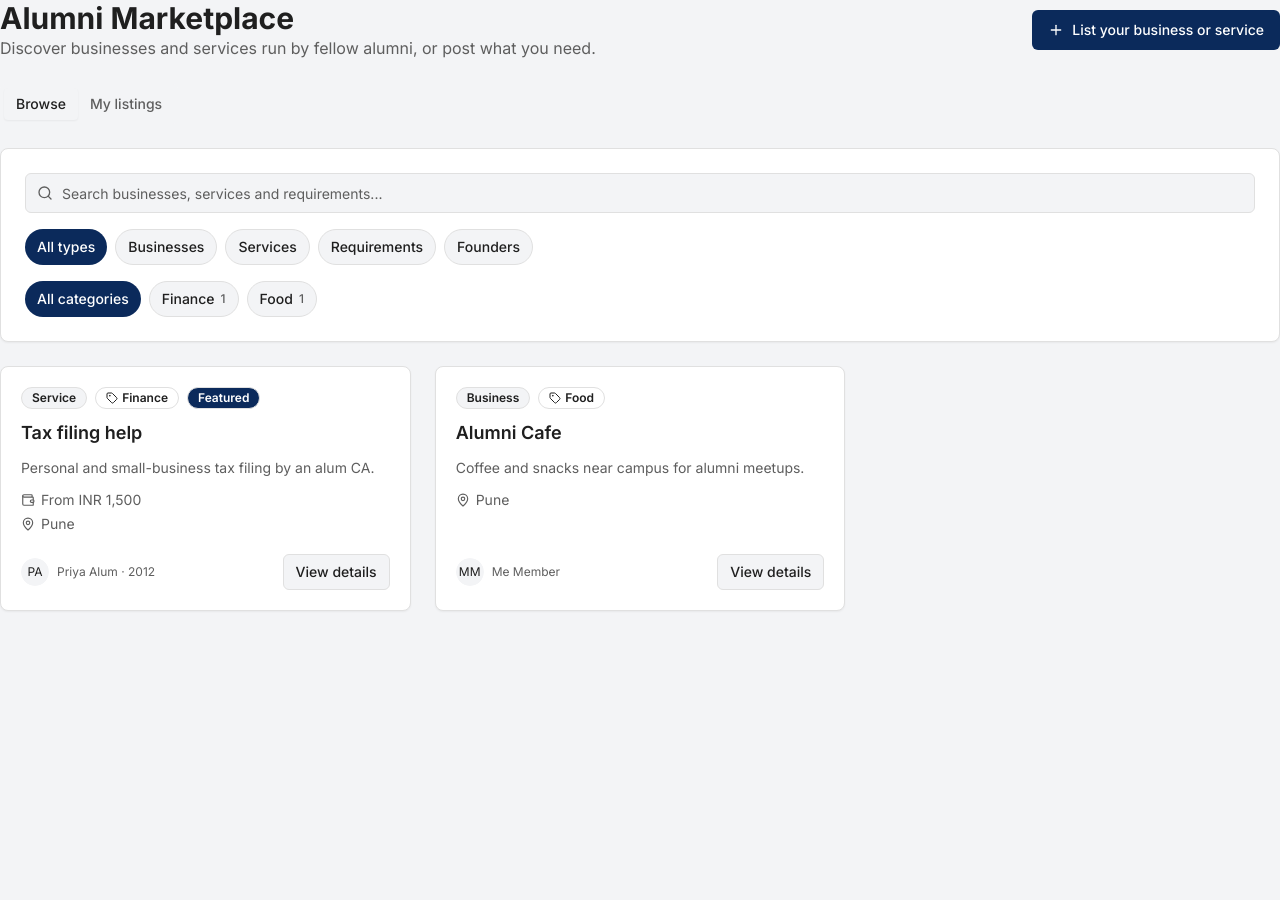
Test: Marketplace page — browse › shows another member's contact details and website but no edit/delete
Click the button with aria-label "View details: Tax filing help".
click(336, 572)  # box [283,554,390,590]
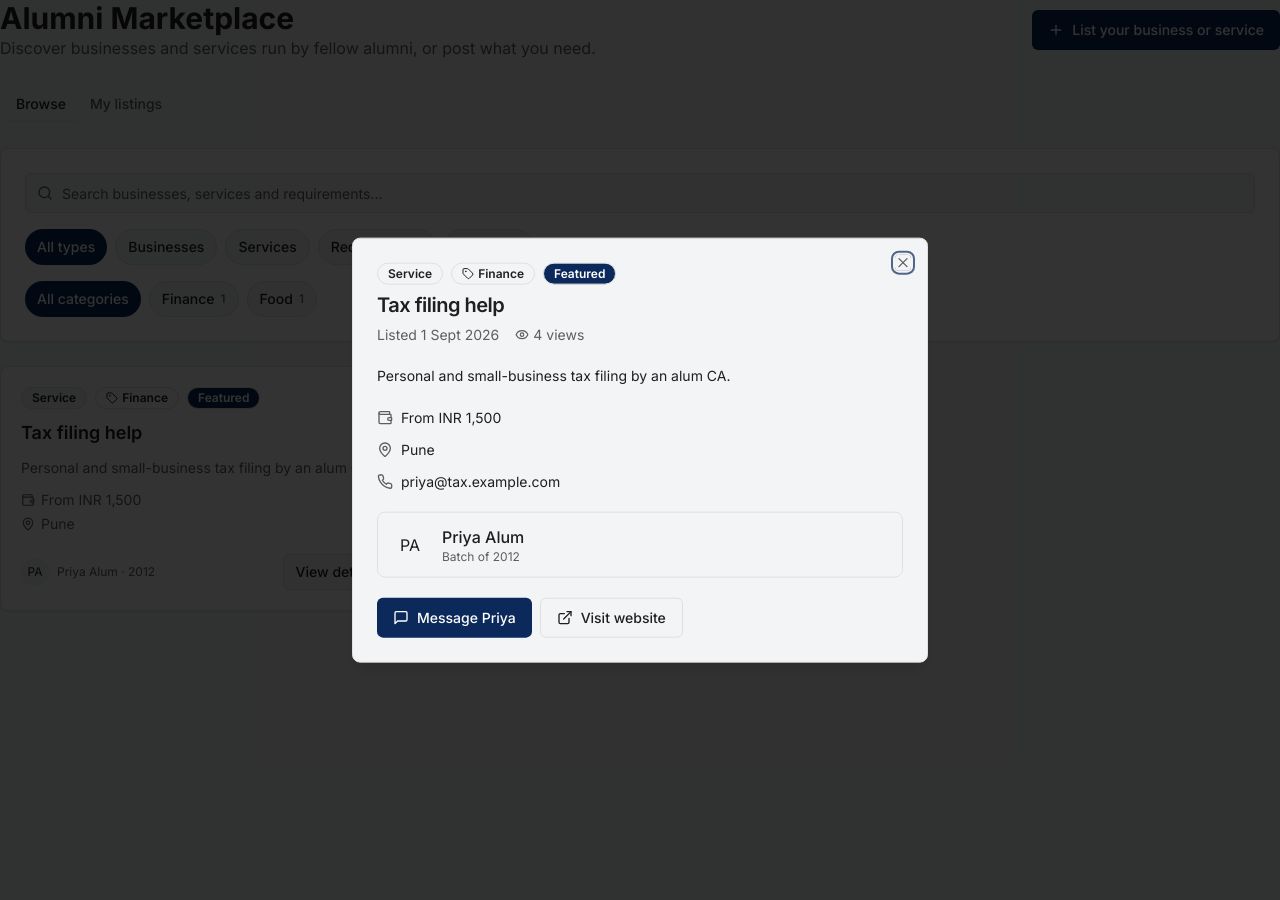
expect the text "priya@tax.example.com" is shown: met, box [401,471,560,491]
expect the link "Priya Alum" is shown: met, box [442,526,524,546]
